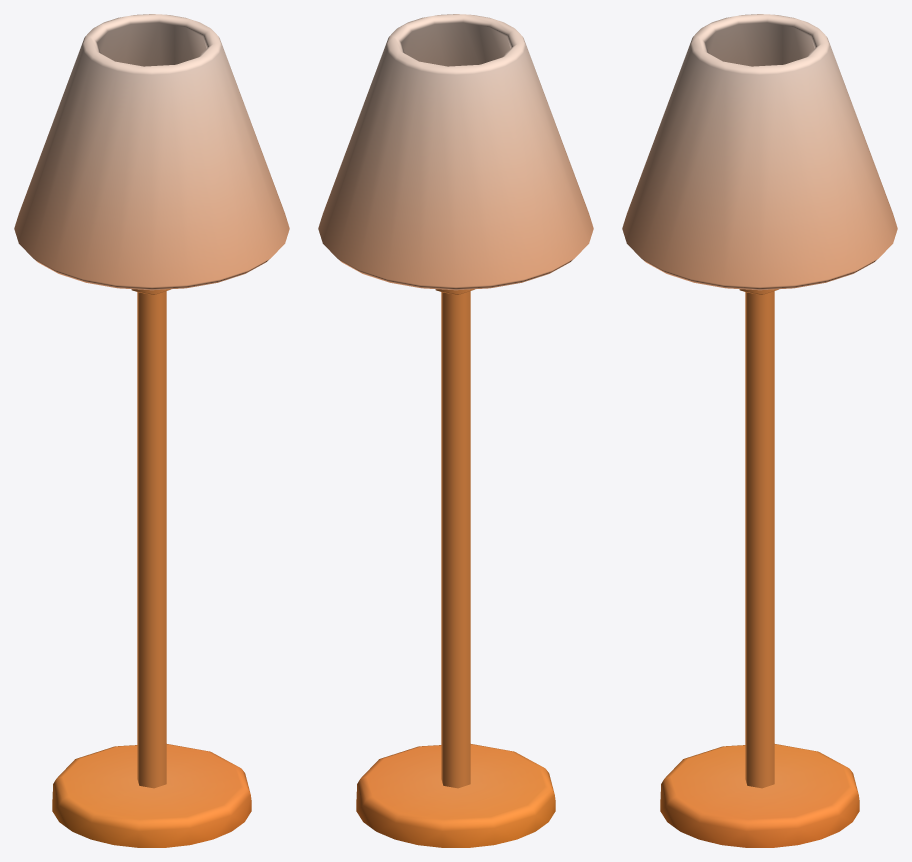
File: Light_001.fbx
3 views of the same model, side by side, from view 1: azimuth 30°, elevation 25°; view 2: azimuth 150°, elevation 25°; view 3: azimuth 270°, elevation 25° (orthographic).
Visible parts, largest first — view 1: Light_001; view 2: Light_001; view 3: Light_001.
Boxes of the visible parts, bbox=[...] form: Light_001: bbox=[14, 14, 289, 847]; Light_001: bbox=[318, 14, 593, 847]; Light_001: bbox=[622, 14, 897, 847].
Size of the model in its own units: 0.4818 by 1.48 by 0.4818.
